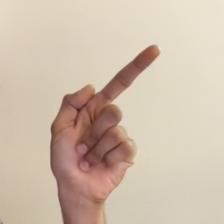G: (41, 33, 174, 202)
